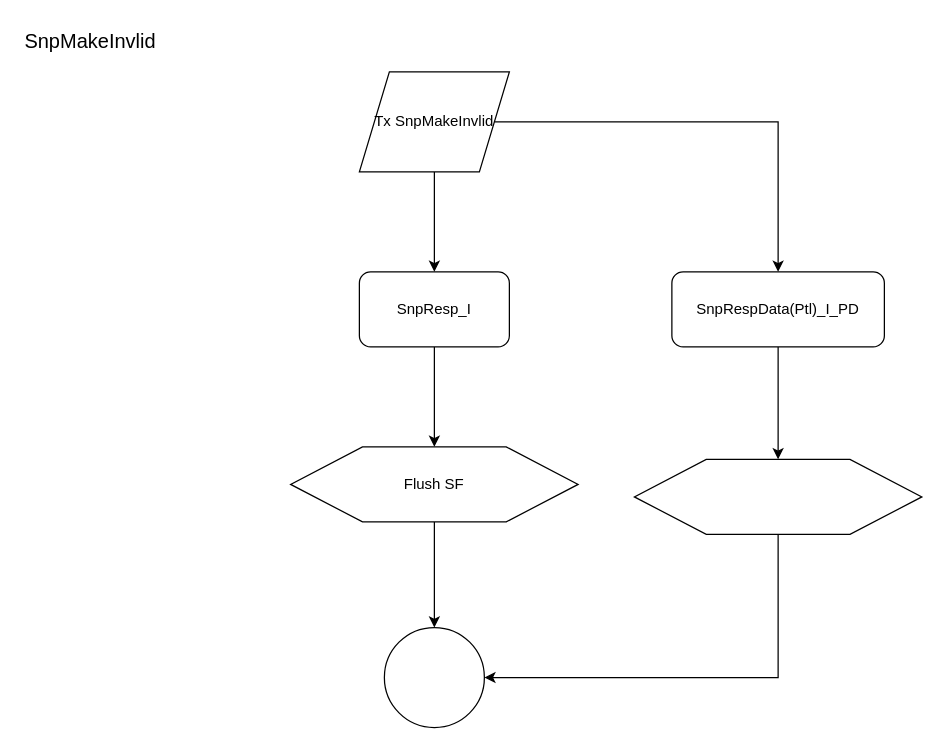
This 944x749 diagram has some shape labels left out. The box of each missing label's shape, as (x1, y1, x2, y2) in pixels:
exit: (383, 626, 484, 728)
Write L3 Flush SF: (633, 458, 922, 534)
